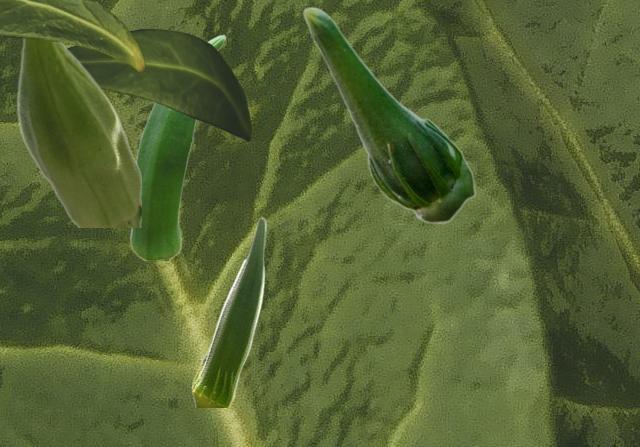okra: (302, 6, 475, 223), (16, 39, 140, 226), (129, 34, 225, 259), (191, 216, 265, 406)
